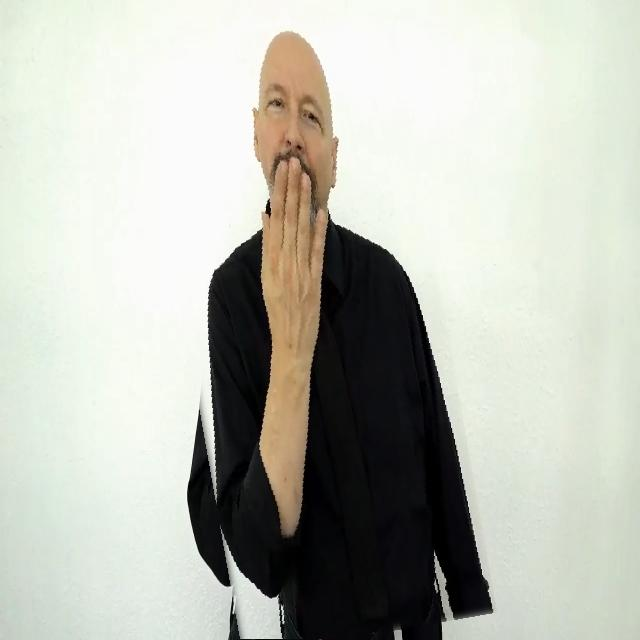ThankYou: (162, 17, 471, 640)
